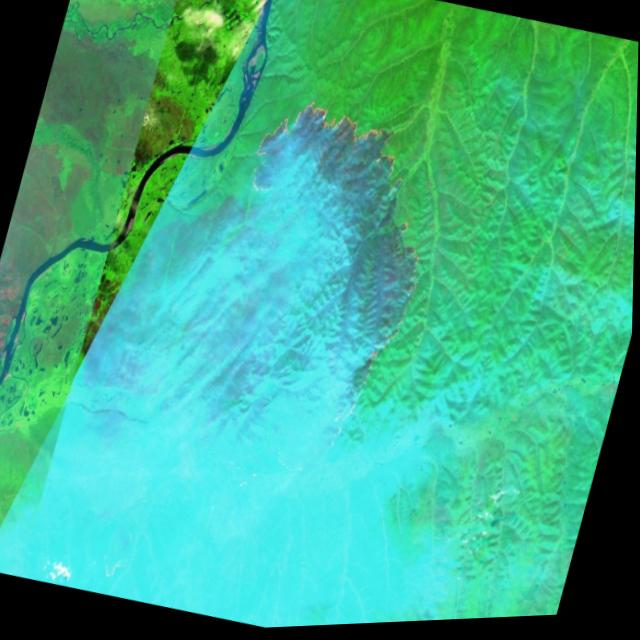fire: (175, 86, 467, 469)
